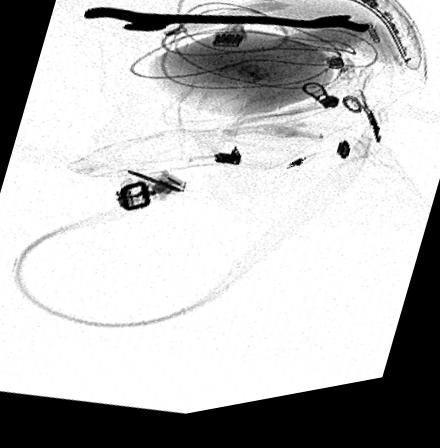Wrench: (78, 10, 371, 47)
